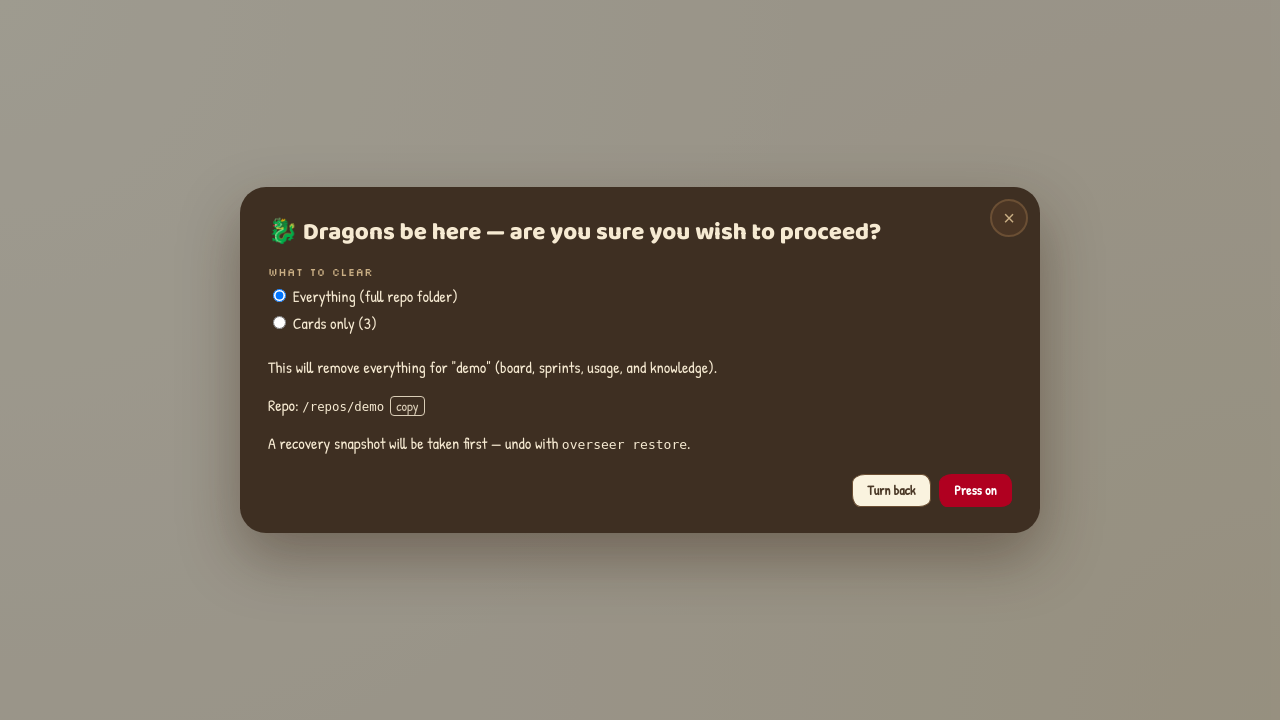
Test: <ClearDialog/> › shows an inline error and stays open when clearRepo rejects
Click the button "Press on": (975, 490) 939,474 -> 1012,507
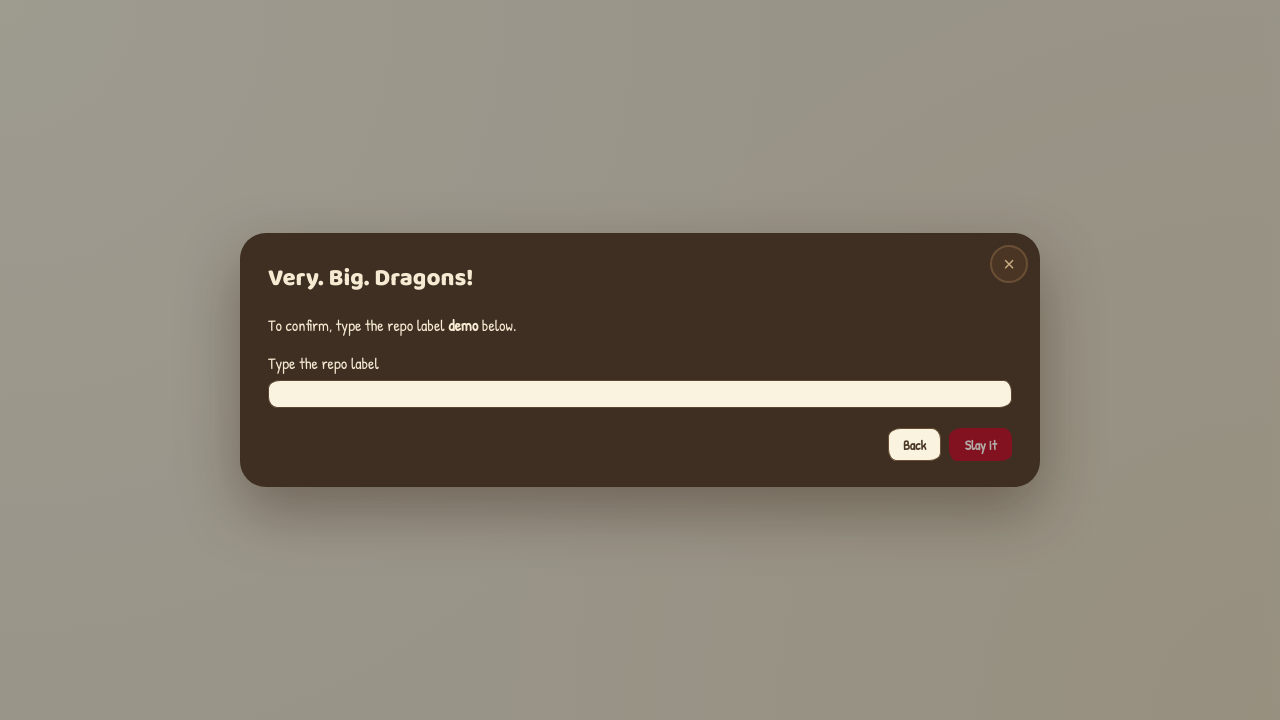
In the field labelled "Type the repo label": (640, 394) 268,380 -> 1012,408, type "demo"
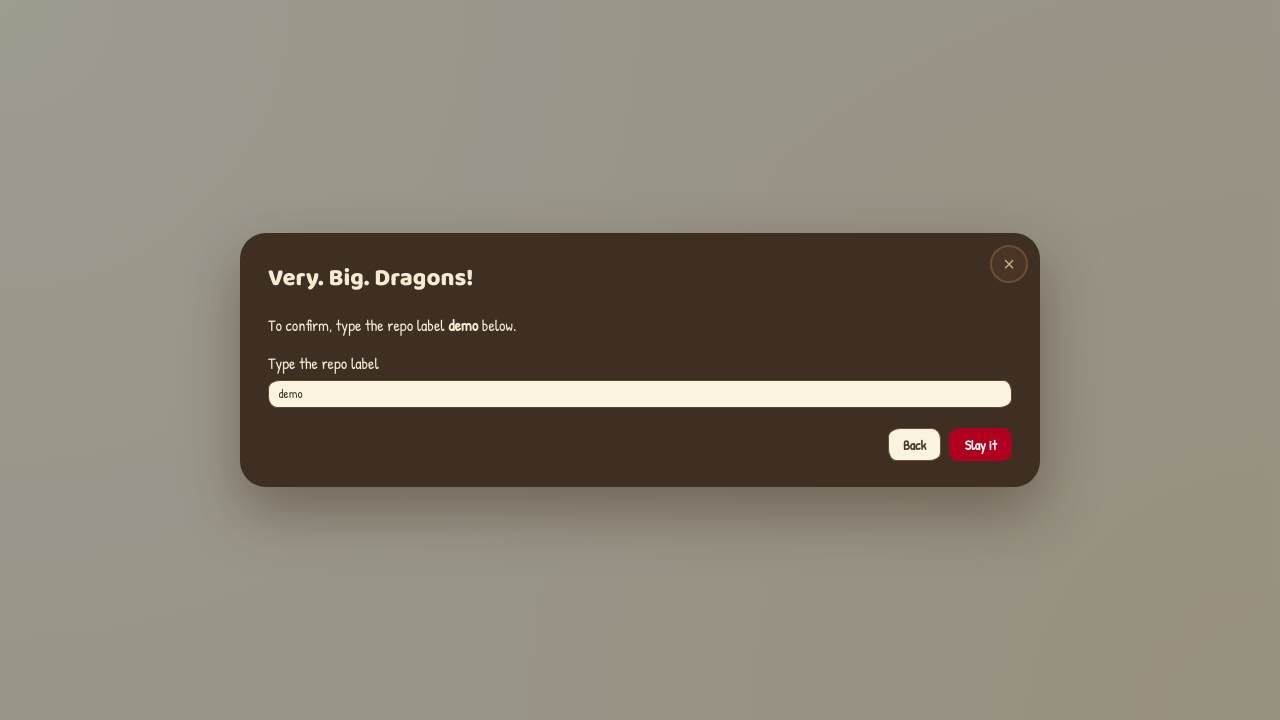
Click the button "Slay it": (981, 445) 949,428 -> 1012,461
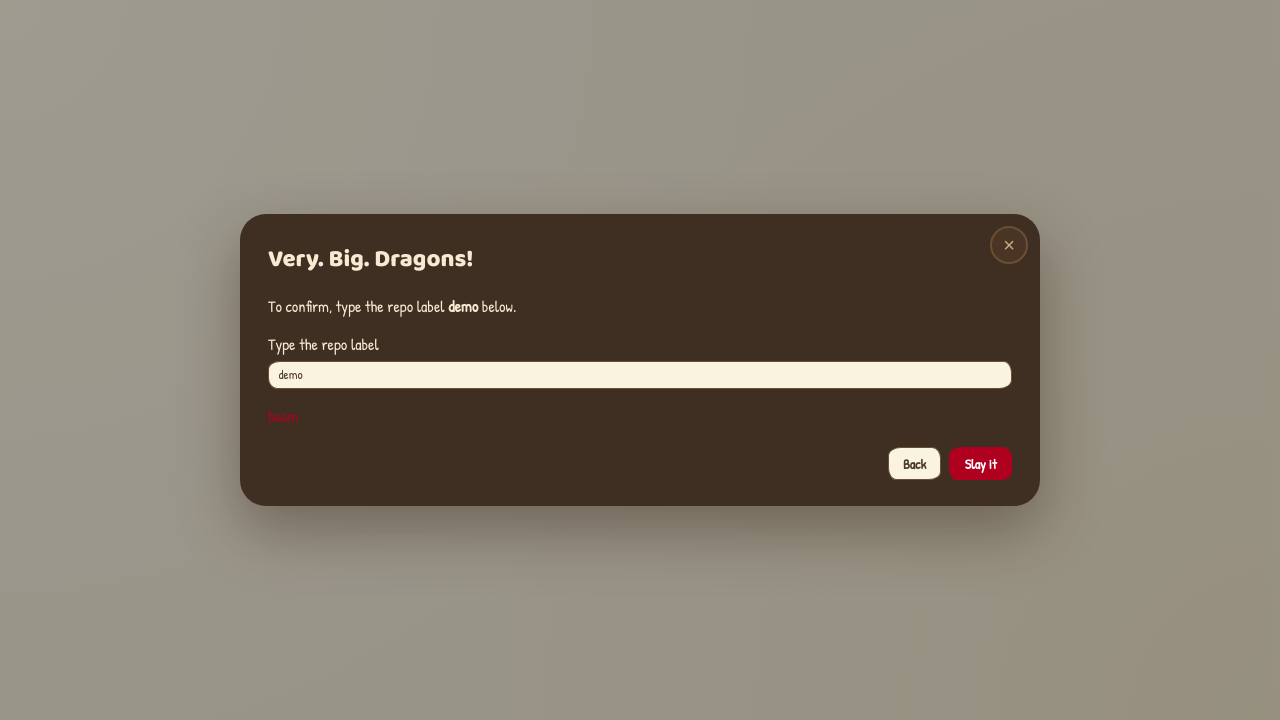
Result: the message reads "boom" at 268,405 -> 298,427
